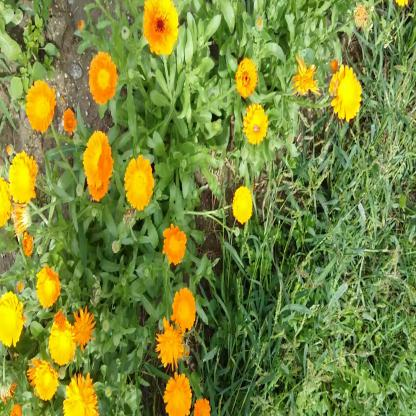marigold: (140, 0, 178, 55), (85, 129, 111, 200), (125, 154, 153, 209), (26, 81, 55, 130), (334, 66, 361, 118), (62, 371, 96, 412), (89, 54, 116, 105), (156, 318, 182, 369), (49, 318, 75, 366), (1, 294, 24, 346), (12, 158, 36, 206), (243, 102, 268, 146), (163, 222, 187, 267), (165, 376, 192, 414), (34, 363, 59, 402), (38, 269, 60, 309), (68, 309, 93, 344), (173, 292, 196, 329), (236, 58, 257, 98), (234, 186, 253, 223), (296, 62, 316, 96)
